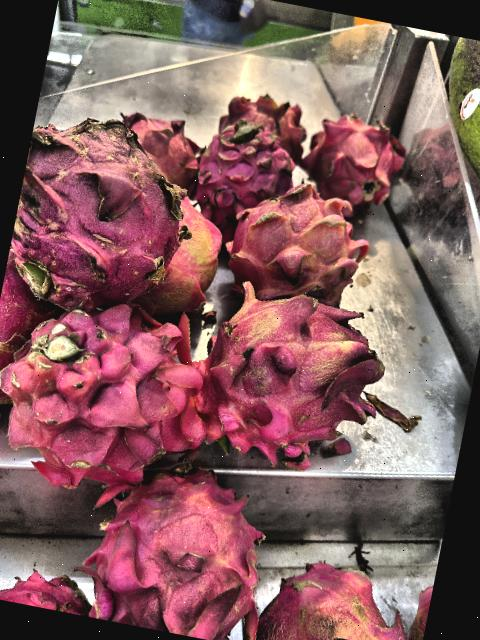buah-naga-belum-matang: (192, 277, 400, 466), (220, 175, 382, 311)
buah-naga-matang: (0, 290, 226, 501), (2, 101, 203, 317), (78, 455, 272, 640), (235, 543, 411, 640), (292, 108, 419, 214), (182, 118, 294, 225), (110, 102, 216, 188)
